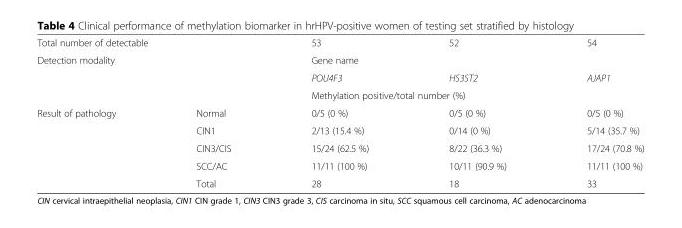table: (36, 36, 643, 188)
table column: (270, 36, 408, 188), (408, 36, 545, 188), (36, 36, 155, 188), (155, 36, 270, 188), (545, 36, 643, 188)
table row: (36, 50, 643, 68), (36, 68, 643, 86), (36, 103, 643, 121), (36, 121, 643, 139), (36, 156, 643, 174), (36, 86, 643, 103), (36, 139, 643, 156), (36, 36, 643, 50), (36, 174, 643, 188)
table spanning cell: (36, 50, 270, 103), (36, 103, 155, 188), (270, 50, 643, 68), (270, 86, 643, 103), (36, 36, 270, 50)
